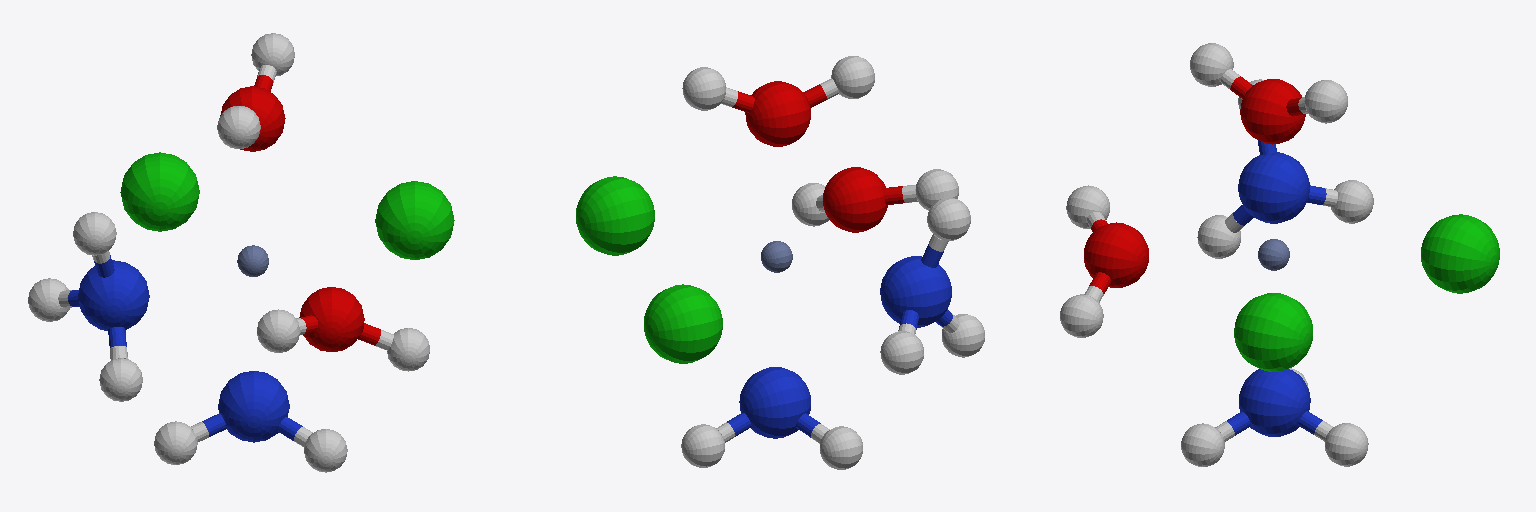
The model's file is cis-diacuodiclorodiamminhierro.obj.
3 renders of one model, left to right at view 1: azimuth 30°, elevation 25°; view 2: azimuth 150°, elevation 25°; view 3: azimuth 270°, elevation 25°, orthographic.
Visible parts, largest first — view 1: ShapeSphere.007_ShapeSphere.008, ShapeSphere.008_ShapeSphere.009, ShapeSphere.001_ShapeSphere.002, ShapeSphere.004_ShapeSphere.005, ShapeSphere.011_ShapeSphere.012, ShapeSphere.014_ShapeSphere.015, ShapeSphere.010_ShapeSphere.011, ShapeSphere.015_ShapeSphere.016, ShapeSphere.003_ShapeSphere.004, ShapeSphere.012_ShapeSphere.013, ShapeSphere.005_ShapeSphere.006, ShapeSphere.009_ShapeSphere.010 (+4 smaller); view 2: ShapeSphere.008_ShapeSphere.009, ShapeSphere.007_ShapeSphere.008, ShapeSphere.001_ShapeSphere.002, ShapeSphere.004_ShapeSphere.005, ShapeSphere.011_ShapeSphere.012, ShapeSphere.014_ShapeSphere.015, ShapeSphere.005_ShapeSphere.006, ShapeSphere.006_ShapeSphere.007, ShapeSphere.016_ShapeSphere, ShapeSphere.002_ShapeSphere.003, ShapeSphere.009_ShapeSphere.010, ShapeSphere.015_ShapeSphere.016 (+4 smaller); view 3: ShapeSphere.007_ShapeSphere.008, ShapeSphere.008_ShapeSphere.009, ShapeSphere.004_ShapeSphere.005, ShapeSphere.001_ShapeSphere.002, ShapeSphere.011_ShapeSphere.012, ShapeSphere.014_ShapeSphere.015, ShapeSphere.002_ShapeSphere.003, ShapeSphere.003_ShapeSphere.004, ShapeSphere.013_ShapeSphere.014, ShapeSphere.016_ShapeSphere, ShapeSphere.015_ShapeSphere.016, ShapeSphere.006_ShapeSphere.007 (+3 smaller).
Part boxes in pixels (x1,y1,x2,y2): ShapeSphere.007_ShapeSphere.008: (120, 152, 199, 231); ShapeSphere.008_ShapeSphere.009: (375, 181, 454, 259); ShapeSphere.001_ShapeSphere.002: (218, 371, 289, 442); ShapeSphere.004_ShapeSphere.005: (78, 260, 149, 330); ShapeSphere.011_ShapeSphere.012: (299, 287, 364, 351); ShapeSphere.014_ShapeSphere.015: (220, 86, 285, 151); ShapeSphere.010_ShapeSphere.011: (99, 358, 142, 401); ShapeSphere.015_ShapeSphere.016: (217, 106, 260, 148); ShapeSphere.003_ShapeSphere.004: (304, 429, 347, 472); ShapeSphere.012_ShapeSphere.013: (257, 309, 299, 352); ShapeSphere.005_ShapeSphere.006: (73, 212, 116, 255); ShapeSphere.009_ShapeSphere.010: (154, 421, 197, 464); ShapeSphere.008_ShapeSphere.009: (576, 176, 654, 255); ShapeSphere.007_ShapeSphere.008: (644, 284, 722, 363); ShapeSphere.001_ShapeSphere.002: (739, 367, 810, 438); ShapeSphere.004_ShapeSphere.005: (880, 256, 951, 327); ShapeSphere.011_ShapeSphere.012: (823, 167, 887, 232); ShapeSphere.014_ShapeSphere.015: (745, 81, 810, 146); ShapeSphere.005_ShapeSphere.006: (927, 197, 970, 240); ShapeSphere.006_ShapeSphere.007: (880, 331, 923, 374); ShapeSphere.016_ShapeSphere: (682, 67, 725, 110); ShapeSphere.002_ShapeSphere.003: (681, 424, 724, 467); ShapeSphere.009_ShapeSphere.010: (820, 426, 862, 469); ShapeSphere.015_ShapeSphere.016: (831, 56, 874, 98); ShapeSphere.007_ShapeSphere.008: (1421, 214, 1499, 293); ShapeSphere.008_ShapeSphere.009: (1234, 293, 1312, 371); ShapeSphere.004_ShapeSphere.005: (1238, 152, 1309, 223); ShapeSphere.001_ShapeSphere.002: (1239, 369, 1310, 436); ShapeSphere.011_ShapeSphere.012: (1084, 222, 1148, 287); ShapeSphere.014_ShapeSphere.015: (1240, 79, 1305, 144); ShapeSphere.002_ShapeSphere.003: (1325, 423, 1368, 466); ShapeSphere.003_ShapeSphere.004: (1181, 423, 1224, 466); ShapeSphere.013_ShapeSphere.014: (1060, 294, 1103, 337); ShapeSphere.016_ShapeSphere: (1304, 80, 1347, 123); ShapeSphere.015_ShapeSphere.016: (1190, 43, 1233, 86); ShapeSphere.006_ShapeSphere.007: (1331, 180, 1373, 223).
Size of the model in its own units: 4.99 by 4.87 by 5.